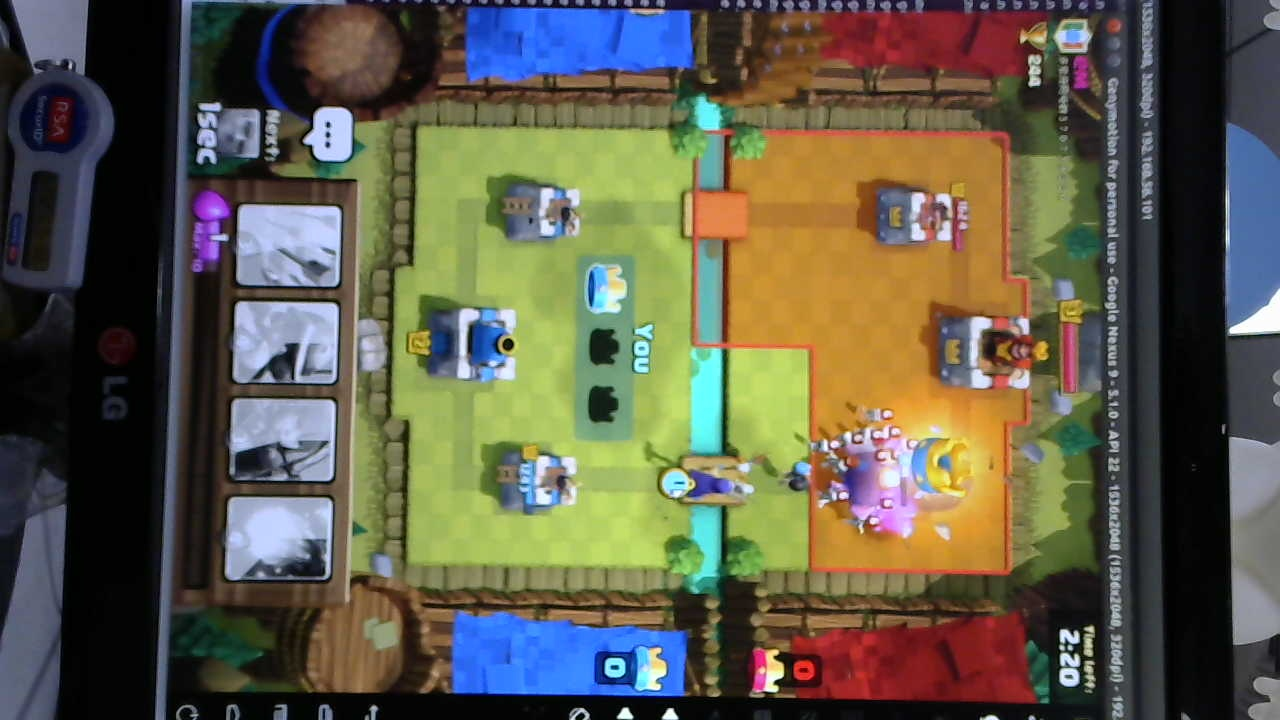arena: (499, 446, 581, 512), (502, 176, 578, 242)
bomb: (786, 456, 813, 494)
earena: (869, 177, 954, 250)
eking: (931, 311, 1045, 393)
giant: (842, 441, 896, 537)
king: (425, 299, 521, 383)
skeletonarmy: (818, 411, 925, 519)
witch: (684, 467, 740, 505)
